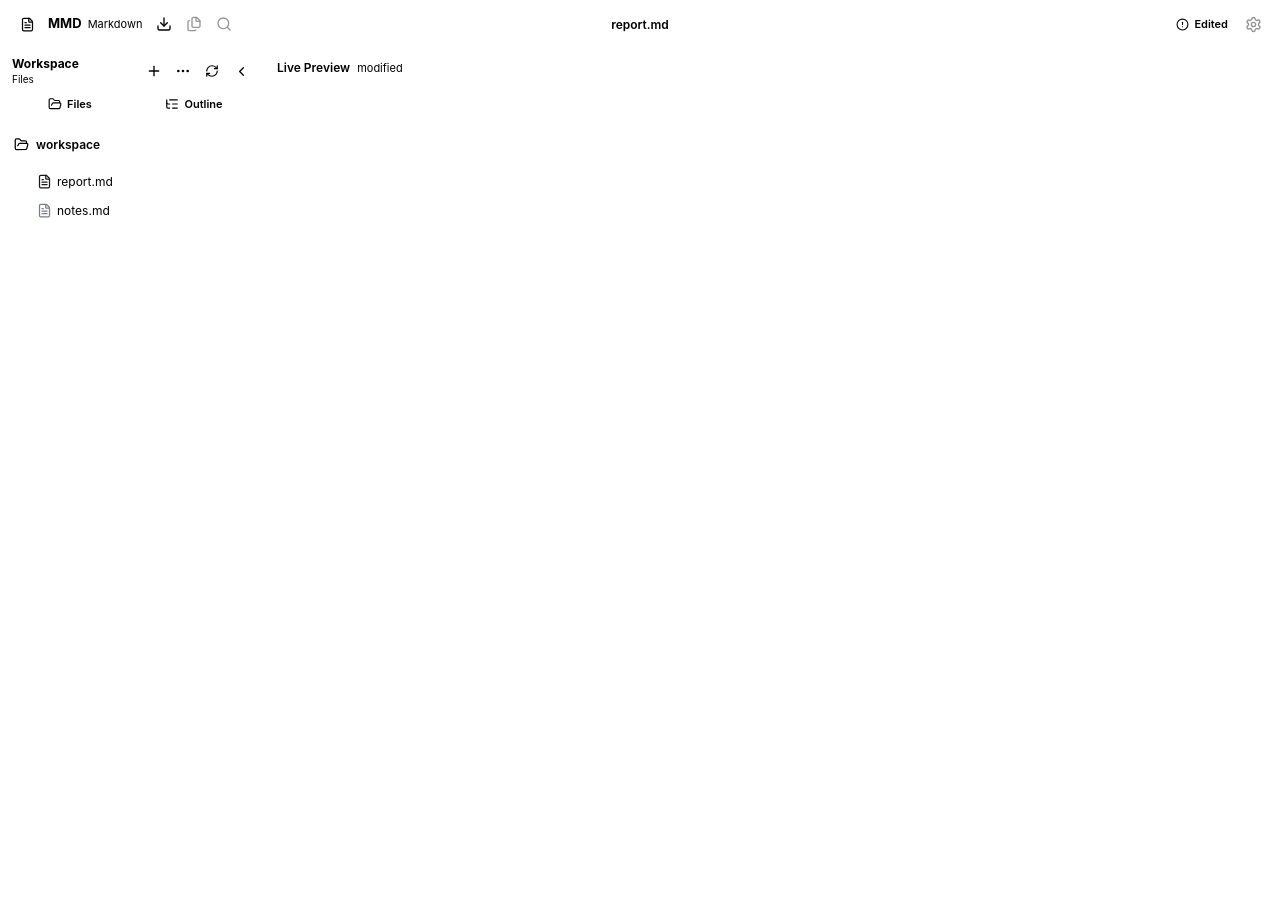
App binary document composition › asks before opening another workspace file when the current document is dirty
Click the list item "notes.md": (73, 210) [37,202,110,218]
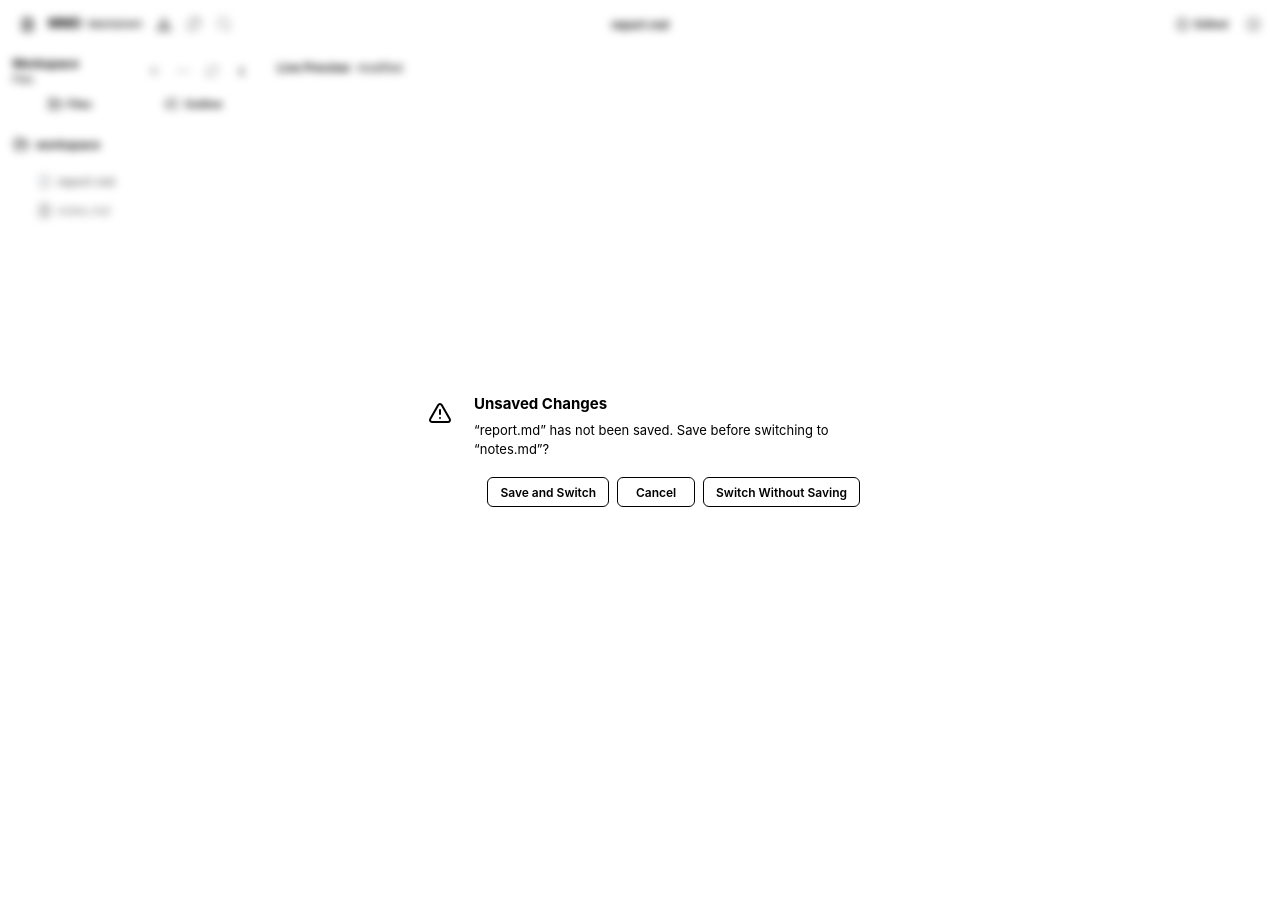
Expected: the dialog shows "Unsaved Changes", [474,394,607,413]
Expected: the dialog shows "report.md", [474,422,829,457]
Expected: the dialog shows "notes.md", [474,422,829,457]
